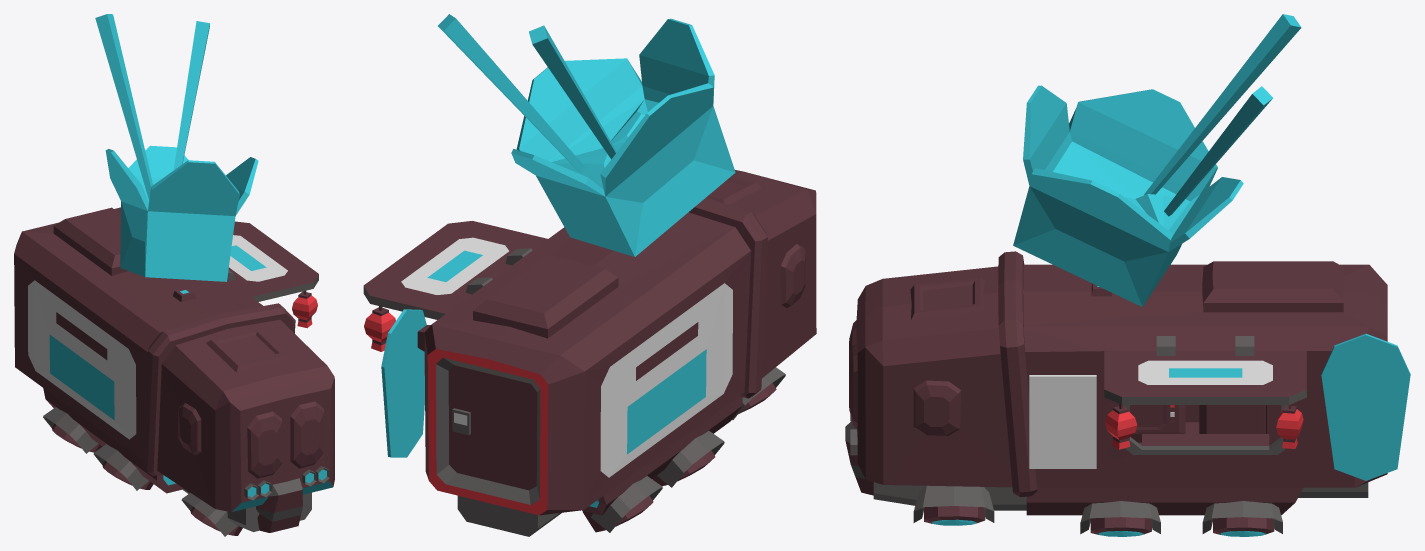
The model's file is scifi-foodtruck-open.fbx.
3 renders of one model, left to right at view 1: azimuth 30°, elevation 25°; view 2: azimuth 150°, elevation 25°; view 3: azimuth 270°, elevation 25°, orthographic. The views are drawn at different scales.
Parts seen in each view (by area): view 1: scifi-foodtruck-open; view 2: scifi-foodtruck-open; view 3: scifi-foodtruck-open.
Part boxes in pixels (box(x1,y1,x2,y2)): scifi-foodtruck-open: box(14, 14, 334, 536); scifi-foodtruck-open: box(363, 14, 816, 536); scifi-foodtruck-open: box(845, 14, 1410, 536).
Bounding box in the file's own units: 3.39 × 6.3 × 6.43.
